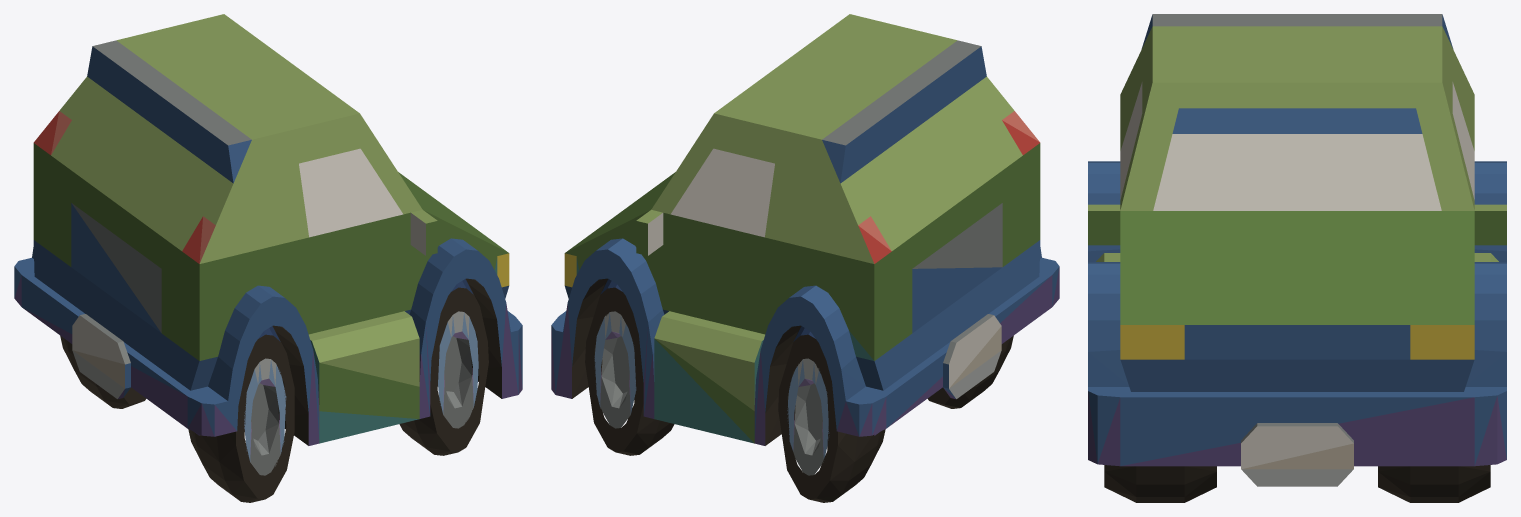
The model's file is hatchback-sports.glb.
The picture shows the model from 3 angles, left to right: view 1: azimuth 30°, elevation 25°; view 2: azimuth 150°, elevation 25°; view 3: azimuth 270°, elevation 25°; orthographic projection. The views are drawn at different scales.
Size of the model in its own units: 1 by 1 by 1.
